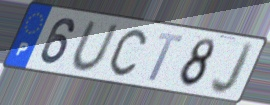6: (39, 16, 78, 67)
8: (176, 36, 216, 90)
C: (107, 27, 148, 78)
J: (209, 41, 256, 97)
T: (146, 31, 186, 84)
U: (71, 20, 121, 74)
